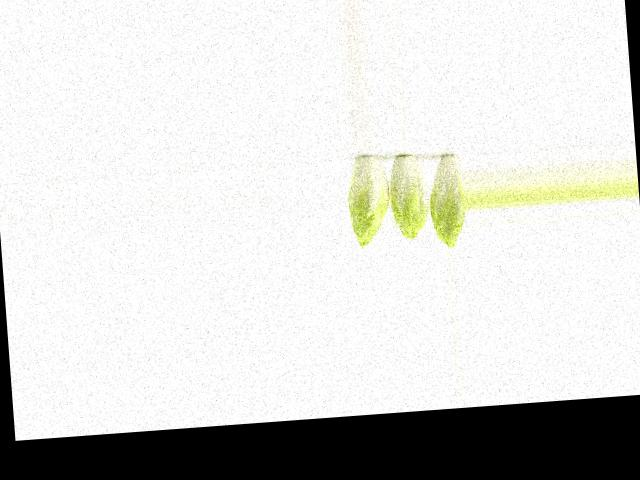lettuce: (344, 150, 391, 249)
